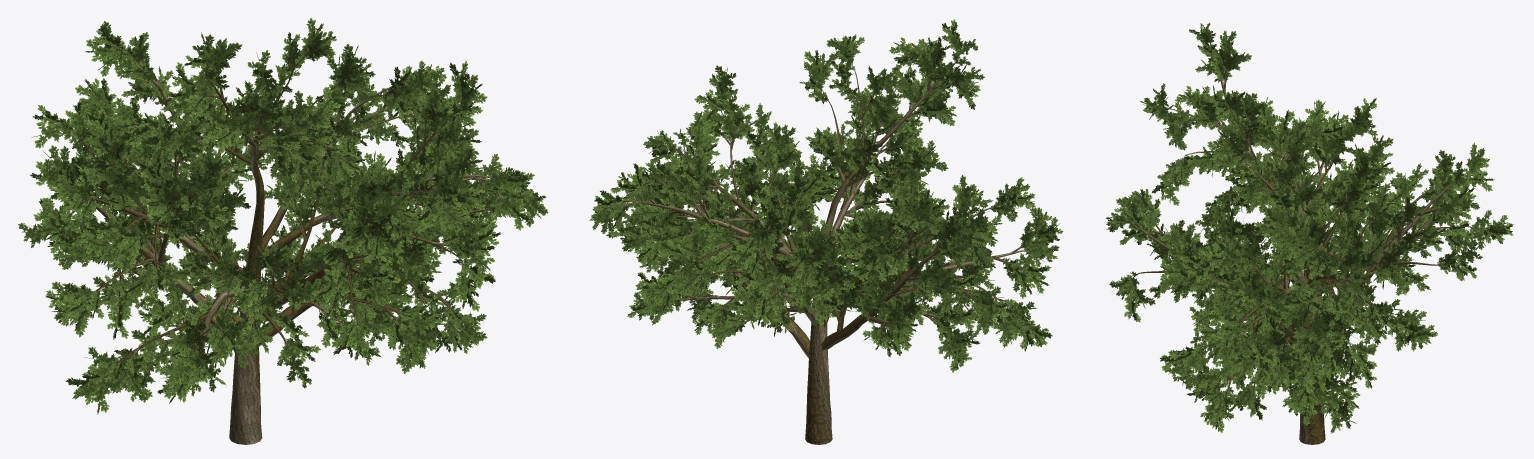
Rendered from oak-203.glb.
The picture shows the model from 3 angles, left to right: view 1: azimuth 30°, elevation 25°; view 2: azimuth 150°, elevation 25°; view 3: azimuth 270°, elevation 25°; orthographic projection. The views are drawn at different scales.
Visible parts, largest first — view 1: leaves, branches; view 2: leaves, branches; view 3: leaves, branches.
Boxes of the visible parts, box(x1,y1,x2,y2) form: leaves: box(18, 18, 548, 414); branches: box(56, 52, 521, 444); leaves: box(589, 19, 1063, 372); branches: box(612, 47, 1035, 444); leaves: box(1106, 22, 1513, 433); branches: box(1131, 42, 1486, 444).
Size of the model in its own units: 19 by 18 by 17.71.
2 materials, 2 textured.
